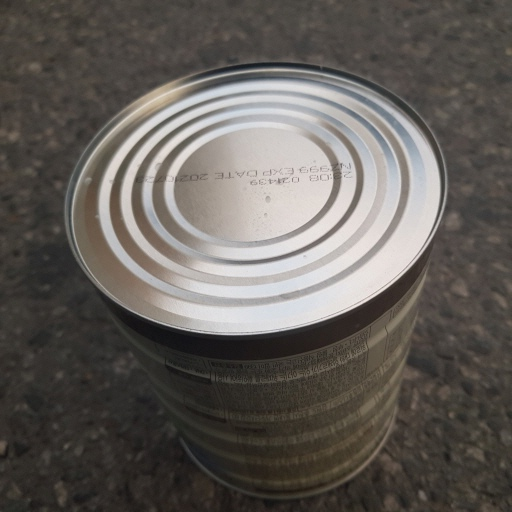Metal_1: (65, 61, 449, 498)
